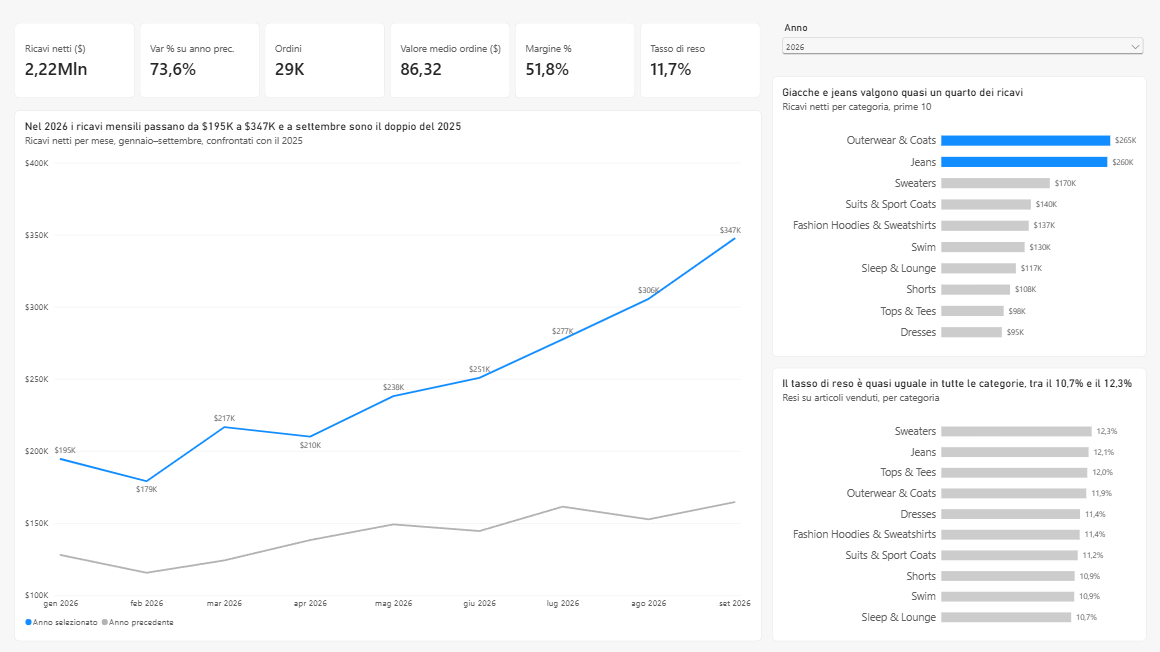

The dashboard page shown, as its layout file describes it:
{"tool":"powerbi","page":{"name":"Vendite","canvas":[1920,1080],"ordinal":0},"visuals":[{"type":"cardVisual","title":"Var % vs 2025 (gen–ott)","fields":{"Data":["_Misure.Ricavi netti","_Misure.Var % anno su anno","_Misure.Ordini","_Misure.Valore medio ordine","_Misure.Margine %","_Misure.Tasso di reso"]},"box":[28,40,1230,124],"z":0},{"type":"lineChart","title":"Nel 2026 i ricavi mensili passano da $195K a $347K e a settembre sono il doppio del 2025","fields":{"Category":["dim_date.month_start"],"Y":["_Misure.Ricavi netti","_Misure.Ricavi netti anno prec."]},"box":[28,184,1230,874],"z":1000},{"type":"barChart","title":"Giacche e jeans valgono quasi un quarto dei ricavi","fields":{"Category":["dim_products.category"],"Y":["_Misure.Ricavi netti"]},"box":[1275.8,126.7,617.1,461.5],"z":2000},{"type":"slicer","fields":{"Values":["dim_date.year"]},"box":[1288.5,38,604.4,61.5],"z":3000},{"type":"barChart","title":"Il tasso di reso è quasi uguale in tutte le categorie, tra il 10,7% e il 12,3%","fields":{"Category":["dim_products.category"],"Y":["_Misure.Tasso di reso"]},"box":[1275.8,606.2,617.1,450.6],"z":4000}]}

Visuals, with their boxes in screenshot pixels (x1, y1, x2, y2), scaled from the page's 1920x1080 canvas onto the 1160x652 screenshot:
"Var % vs 2025 (gen–ott)" cardVisual: box=[17, 24, 760, 99]
"Nel 2026 i ricavi mensili passano da $195K a $347K e a settembre sono il doppio del 2025" lineChart: box=[17, 111, 760, 639]
"Giacche e jeans valgono quasi un quarto dei ricavi" barChart: box=[771, 76, 1144, 355]
slicer - dim_date.year: box=[778, 23, 1144, 60]
"Il tasso di reso è quasi uguale in tutte le categorie, tra il 10,7% e il 12,3%" barChart: box=[771, 366, 1144, 638]
